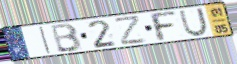2: (87, 19, 118, 50)
B: (50, 22, 84, 54)
F: (147, 10, 179, 43)
I: (38, 25, 53, 55)
U: (178, 7, 210, 38)
Z: (113, 14, 148, 47)
